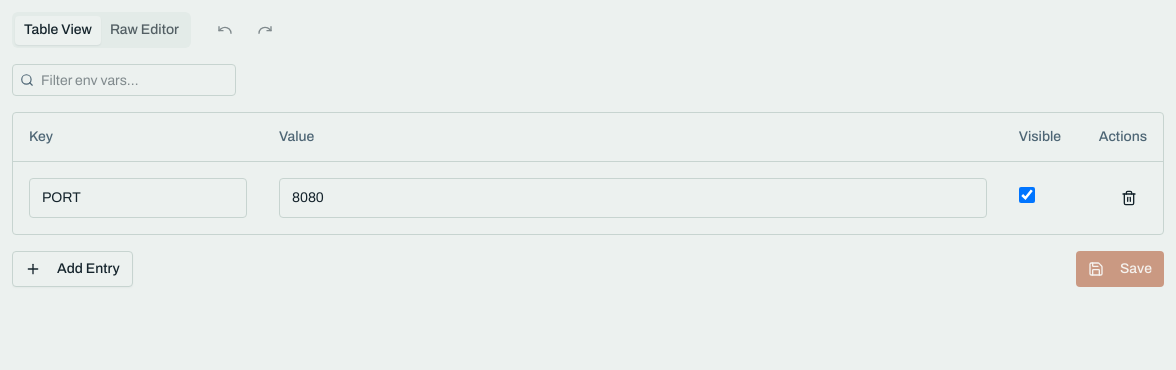
Test: EnvEditor — a failed REFETCH must not discard the editor › keeps the editor and the unsaved edit when a REFETCH fails
Replace the text in the field named "Environment variable value 1" with "9090". click: (633, 198)
box: [279,178,987,218]
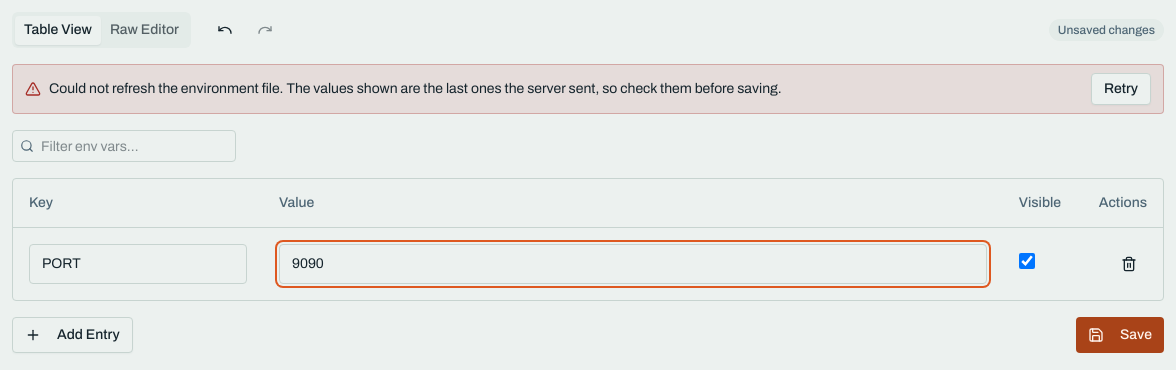
Now the text "Could not refresh the environment file" is shown, box [49,79,782,99]
